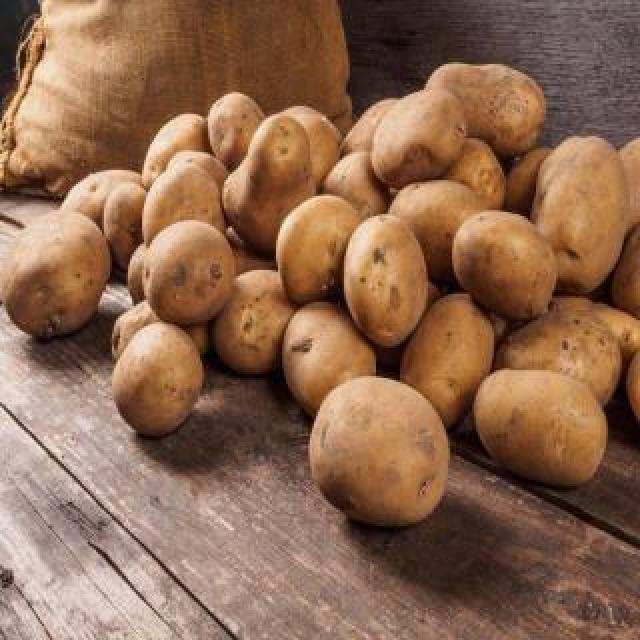Wet: (308, 368, 449, 531), (470, 352, 617, 498), (10, 200, 115, 349), (418, 46, 552, 159), (104, 316, 214, 442), (274, 172, 370, 315), (368, 78, 480, 199), (452, 204, 563, 309), (340, 210, 427, 338), (136, 214, 239, 320)
